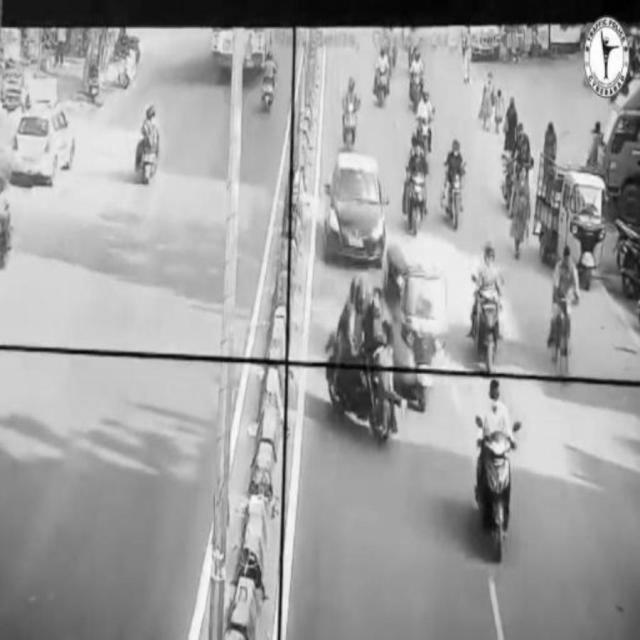accident: (324, 275, 400, 442)
person: (511, 166, 529, 262)
vehicle: (388, 241, 449, 409), (539, 147, 603, 293), (476, 375, 514, 559), (329, 153, 387, 265), (9, 102, 76, 183), (475, 237, 503, 371), (551, 250, 578, 380), (402, 137, 427, 235), (444, 139, 466, 229), (135, 104, 161, 180), (340, 78, 364, 149), (257, 52, 275, 116)
